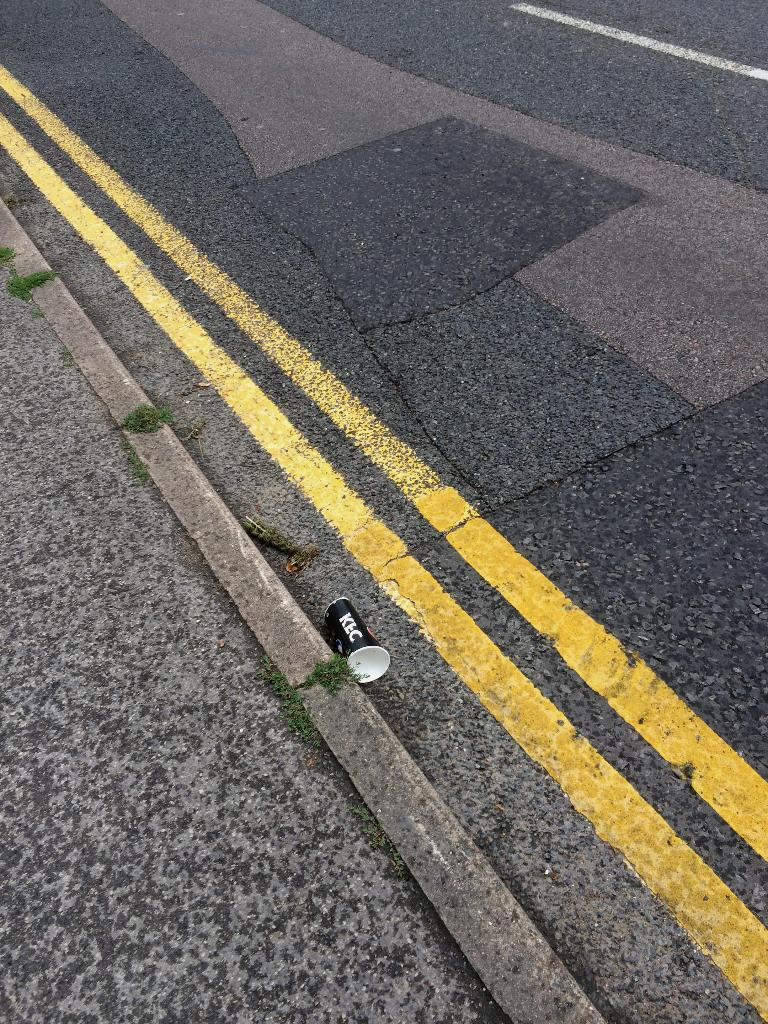garbage: (296, 582, 413, 683)
